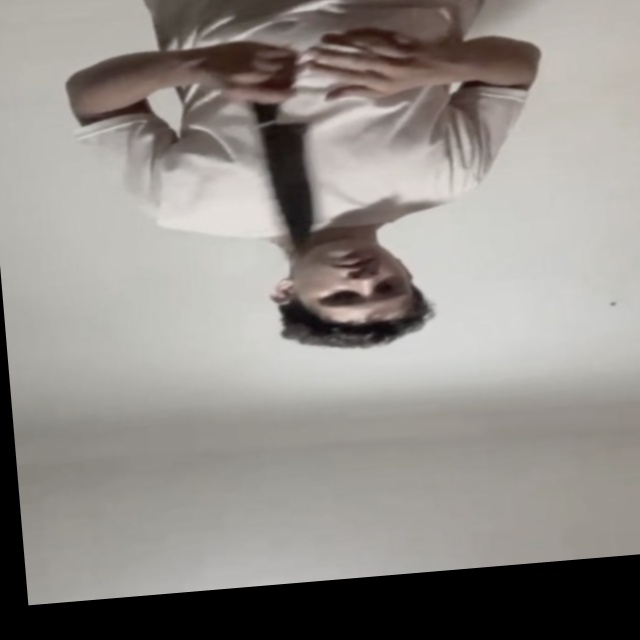Sharp-Object: (253, 118, 323, 262)
